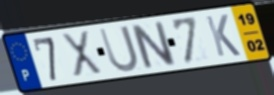7: (170, 15, 199, 66), (31, 36, 59, 83)
K: (203, 13, 243, 59)
N: (128, 20, 179, 71)
U: (97, 24, 141, 75)
X: (60, 29, 106, 79)
